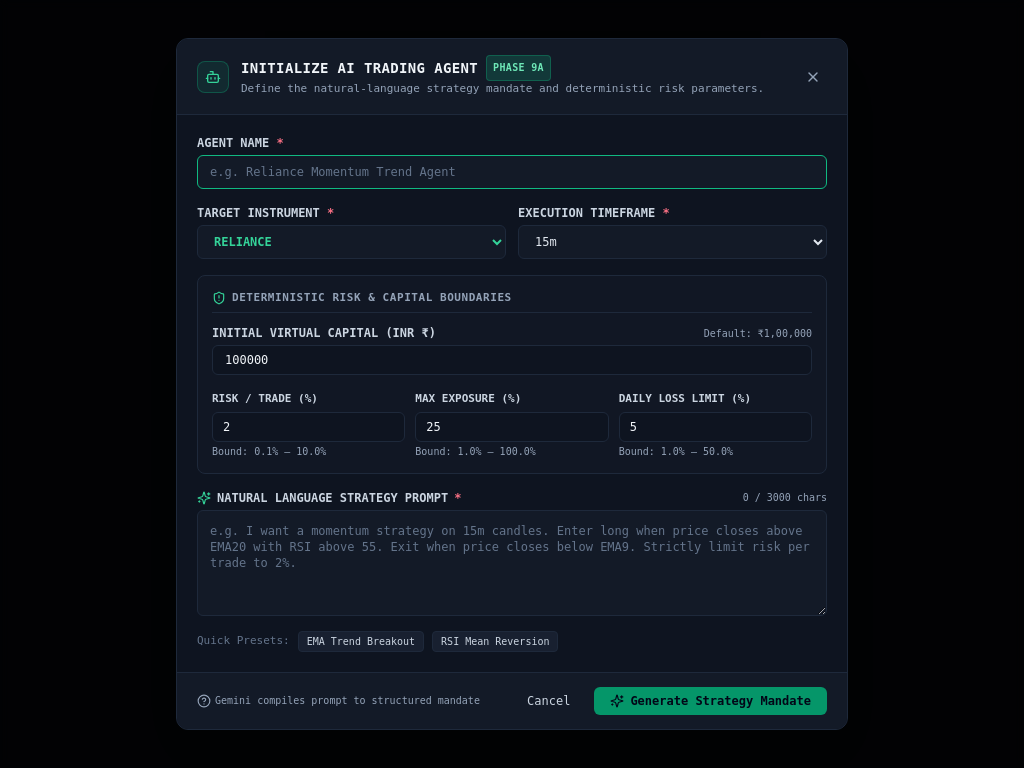
Test: Phase 9A — AgentCreationModal › enforces numeric range constraints on capital and risk limits
Type "Boundary Agent" into the field labelled "AGENT NAME *" at (512, 172), box [197,155,827,189]
Replace the text in the text box labelled "NATURAL LANGUAGE STRATEGY PROMPT *" with "Valid momentum strategy text here." at (512, 563), box [197,510,827,616]
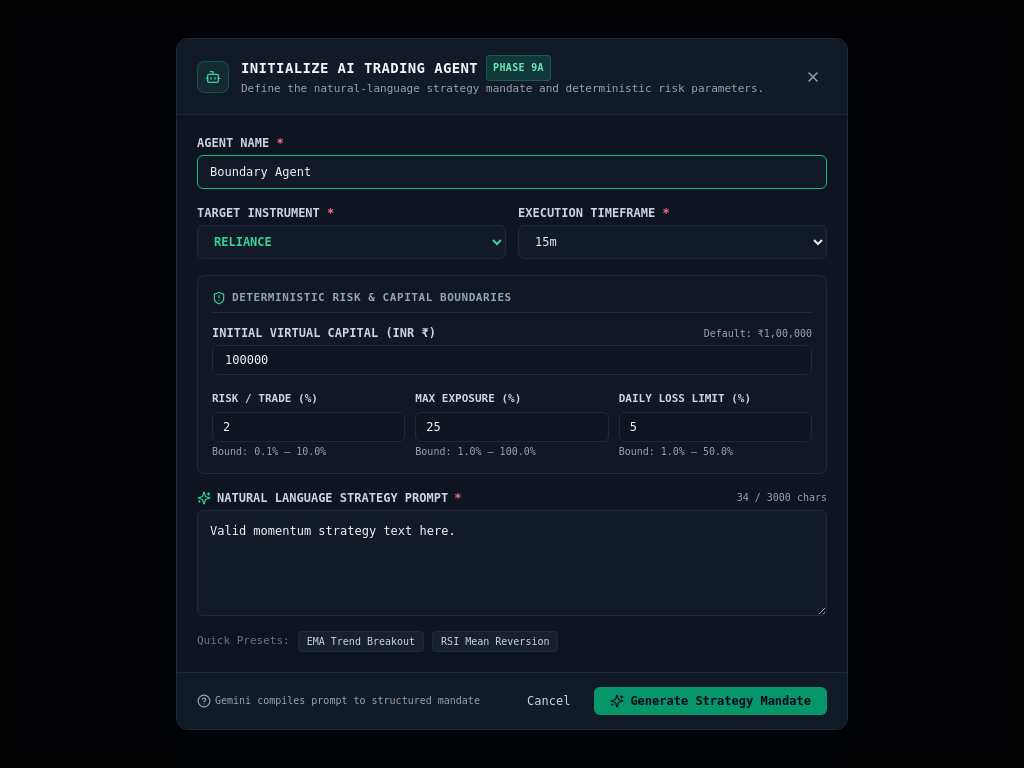
Negative initial capital
Replace the text in the number field labelled "INITIAL VIRTUAL CAPITAL (INR ₹)" with "-500" at (512, 360), box [212,345,812,375]
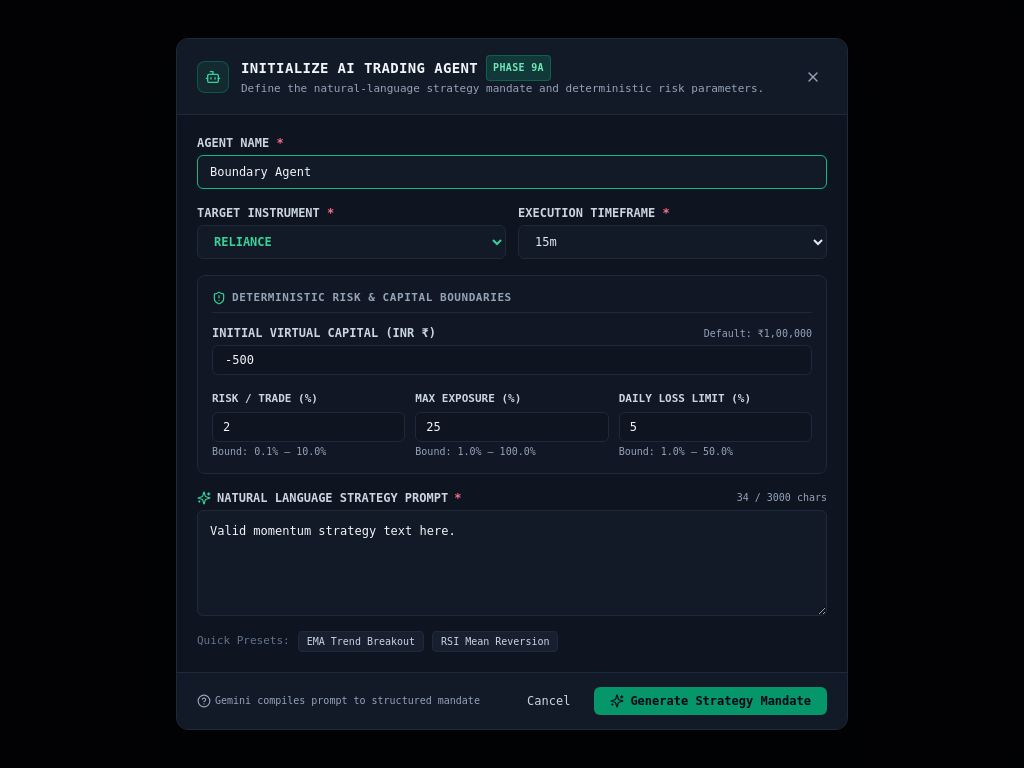
Replace the text in the number field labelled "RISK / TRADE (%)" with "15" at (309, 427), box [212,412,405,442]
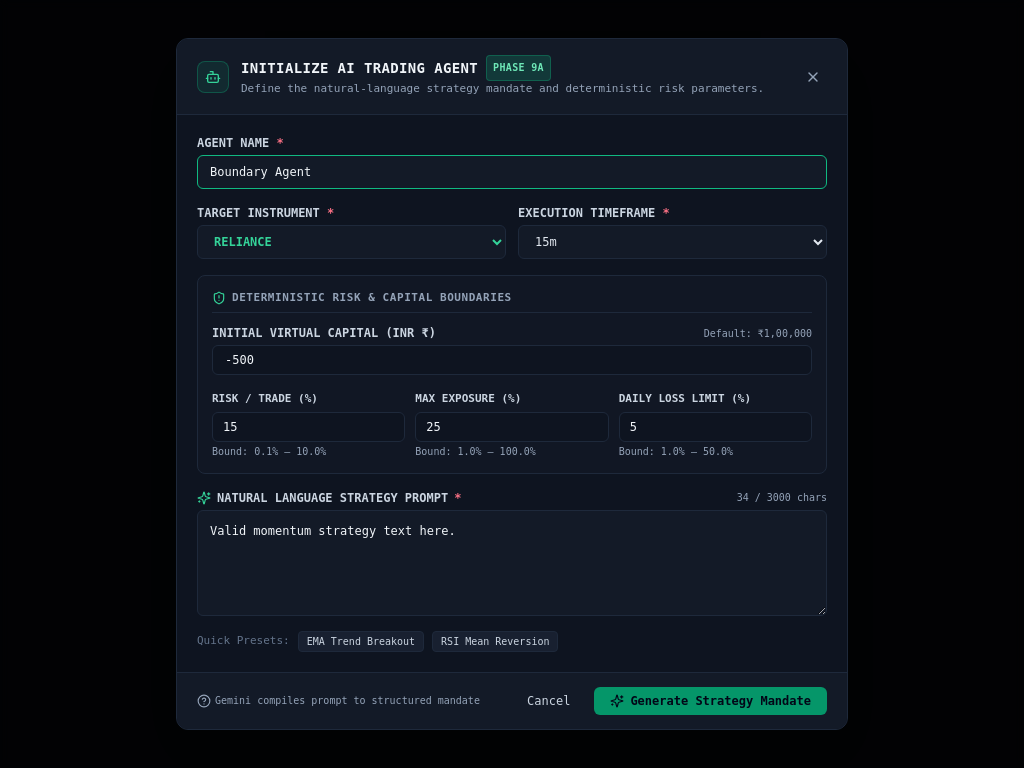
Replace the text in the number field labelled "MAX EXPOSURE (%)" with "150" at (512, 427), box [415,412,609,442]
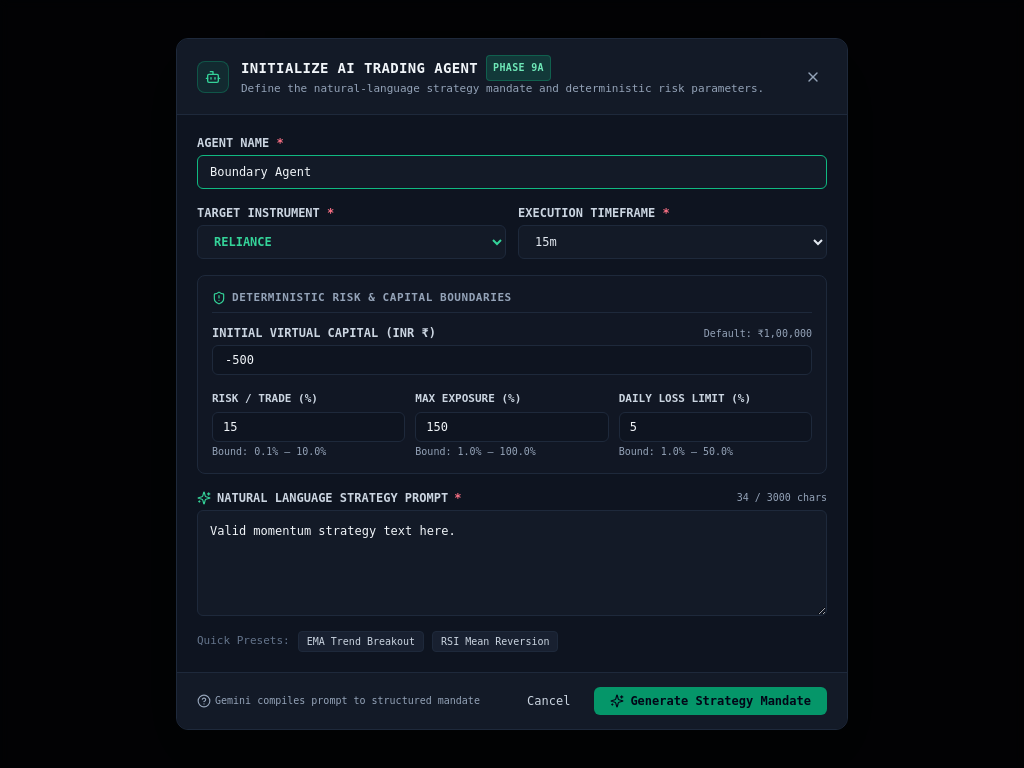
Replace the text in the number field labelled "DAILY LOSS LIMIT (%)" with "75" at (715, 427), box [619,412,812,442]
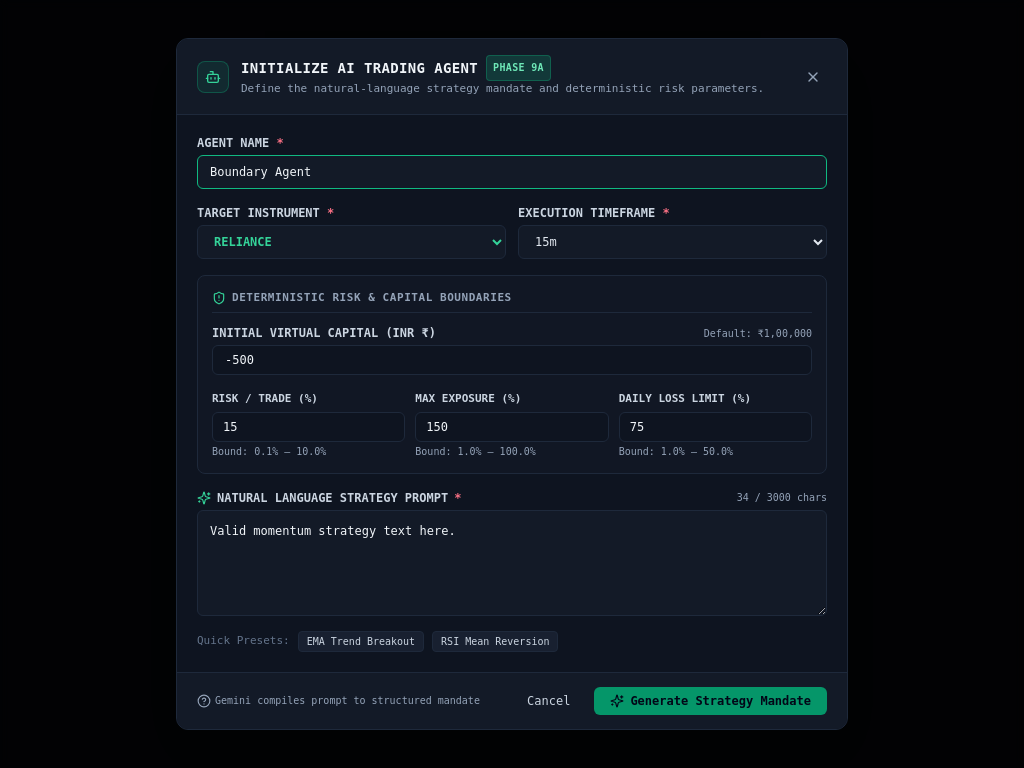
Click the button "Generate Strategy Mandate" at (711, 701), box [594,687,827,715]
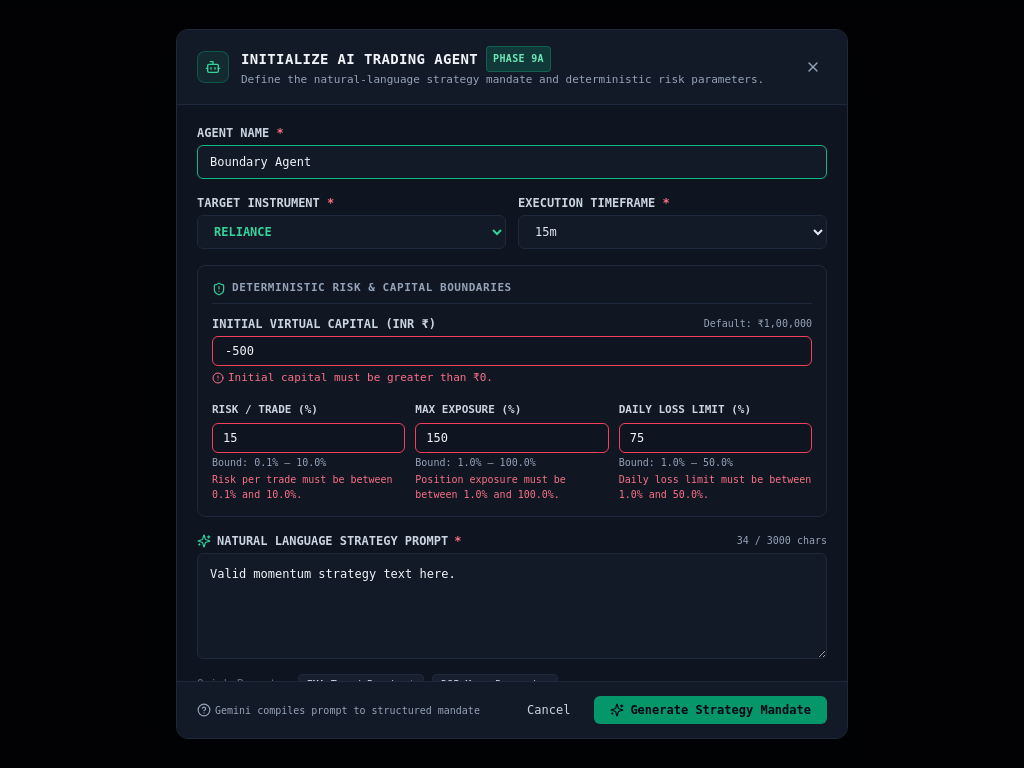
Result: the text "Initial capital must be greater than ₹0." is shown at [212,371,493,384]
Result: the text "Risk per trade must be between 0.1% and 10.0%." is shown at [212,472,405,502]
Result: the text "Position exposure must be between 1.0% and 100.0%." is shown at [415,474,566,500]
